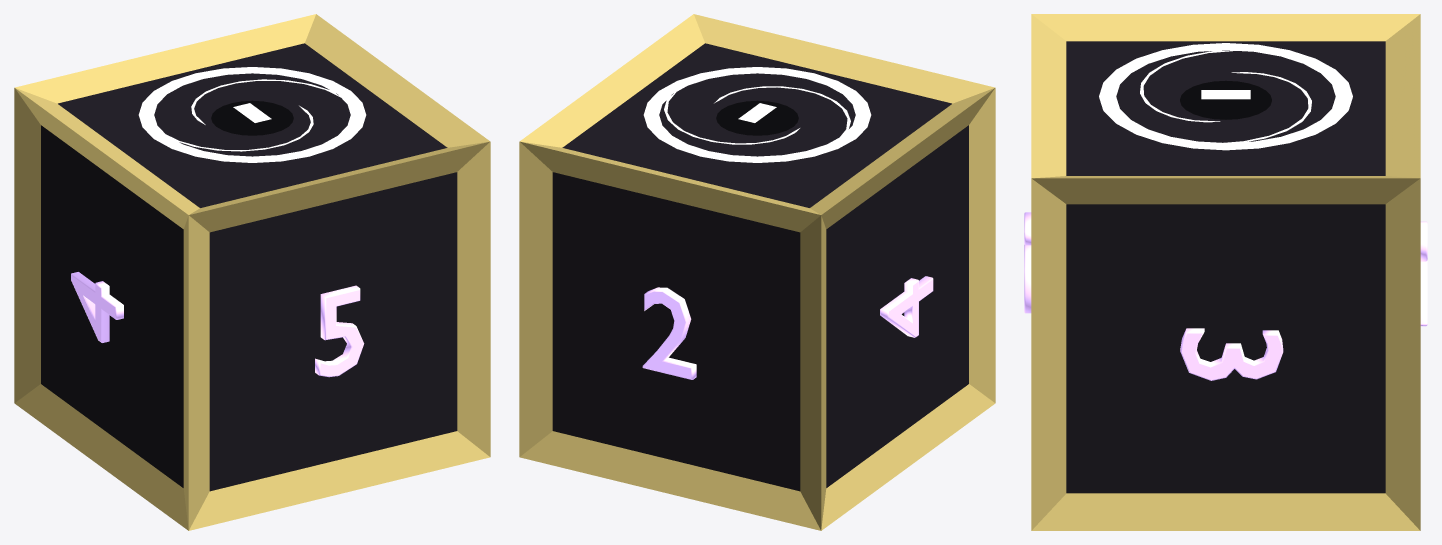
Rendered from d6_black_hole_gold.glb.
3 renders of one model, left to right at view 1: azimuth 30°, elevation 25°; view 2: azimuth 150°, elevation 25°; view 3: azimuth 270°, elevation 25°, orthographic. The views are drawn at different scales.
Visible parts, largest first — view 1: D6_BlackHole_Gold; view 2: D6_BlackHole_Gold; view 3: D6_BlackHole_Gold.
Boxes of the visible parts, left/top/right/bottom form: D6_BlackHole_Gold: left=14, top=14, right=490, bottom=530; D6_BlackHole_Gold: left=519, top=14, right=995, bottom=530; D6_BlackHole_Gold: left=1024, top=14, right=1427, bottom=530.
Size of the model in its own units: 3.73 by 3.67 by 3.73.
